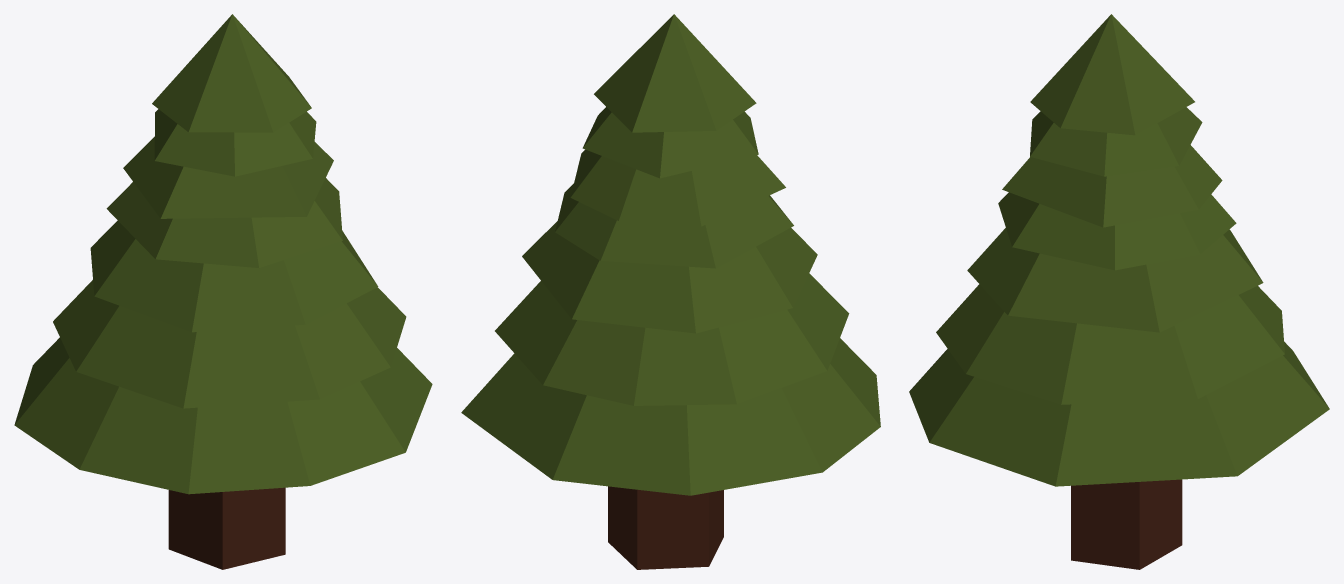
Rendered from tree2.dae.
3 renders of one model, left to right at view 1: azimuth 30°, elevation 25°; view 2: azimuth 150°, elevation 25°; view 3: azimuth 270°, elevation 25°, orthographic.
Parts seen in each view (by area): view 1: Tree, Trunk; view 2: Tree, Trunk; view 3: Tree, Trunk.
Boxes of the visible parts, x1,y1,x2,y2 form: Tree: (14, 14, 432, 494); Trunk: (168, 487, 285, 569); Tree: (461, 14, 880, 495); Trunk: (608, 486, 723, 569); Tree: (909, 14, 1329, 486); Trunk: (1071, 479, 1182, 569).
Size of the model in its own units: 1.02 by 1.05 by 1.45.
